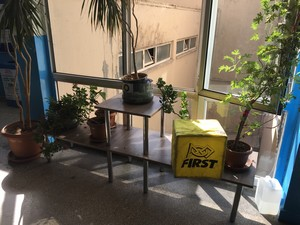cube: (171, 118, 226, 179)
